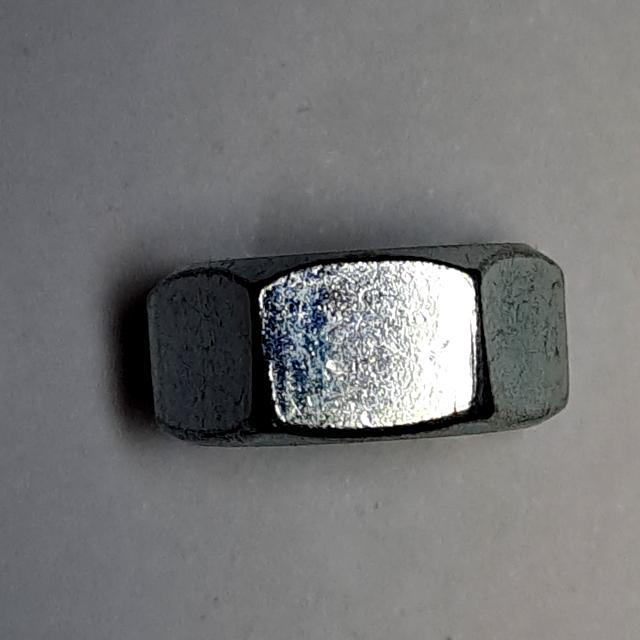Side_Excellent: (134, 222, 580, 483)
